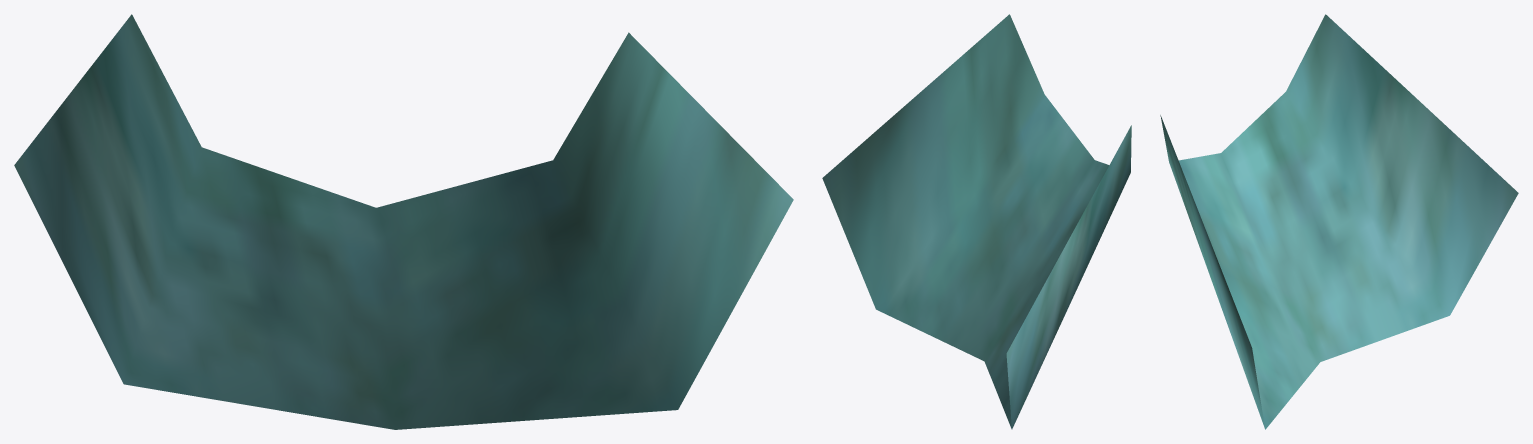
Rendered from EKH_CAVERNS_PS_CA_OBJECT40.fbx.
3 views of the same model, side by side, from view 1: azimuth 30°, elevation 25°; view 2: azimuth 150°, elevation 25°; view 3: azimuth 270°, elevation 25° (orthographic). The views are drawn at different scales.
Visible parts, largest first — view 1: EKH_CAVERNS_PS_CA_OBJECT40; view 2: EKH_CAVERNS_PS_CA_OBJECT40; view 3: EKH_CAVERNS_PS_CA_OBJECT40.
Boxes of the visible parts, <box> form: EKH_CAVERNS_PS_CA_OBJECT40: <box>14,14,793,429</box>; EKH_CAVERNS_PS_CA_OBJECT40: <box>822,14,1131,429</box>; EKH_CAVERNS_PS_CA_OBJECT40: <box>1160,14,1518,429</box>.
Size of the model in its own units: 19721 by 15068 by 17703.
Materials: 1 (1 with a texture image).
